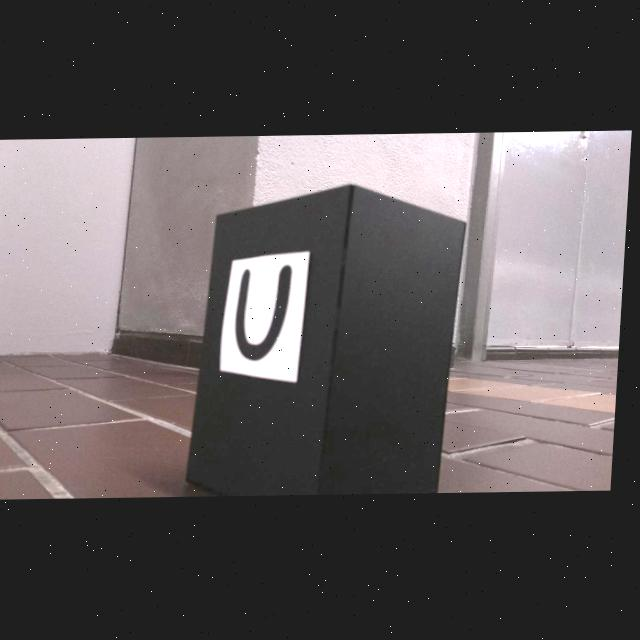U: (238, 266, 296, 362)
